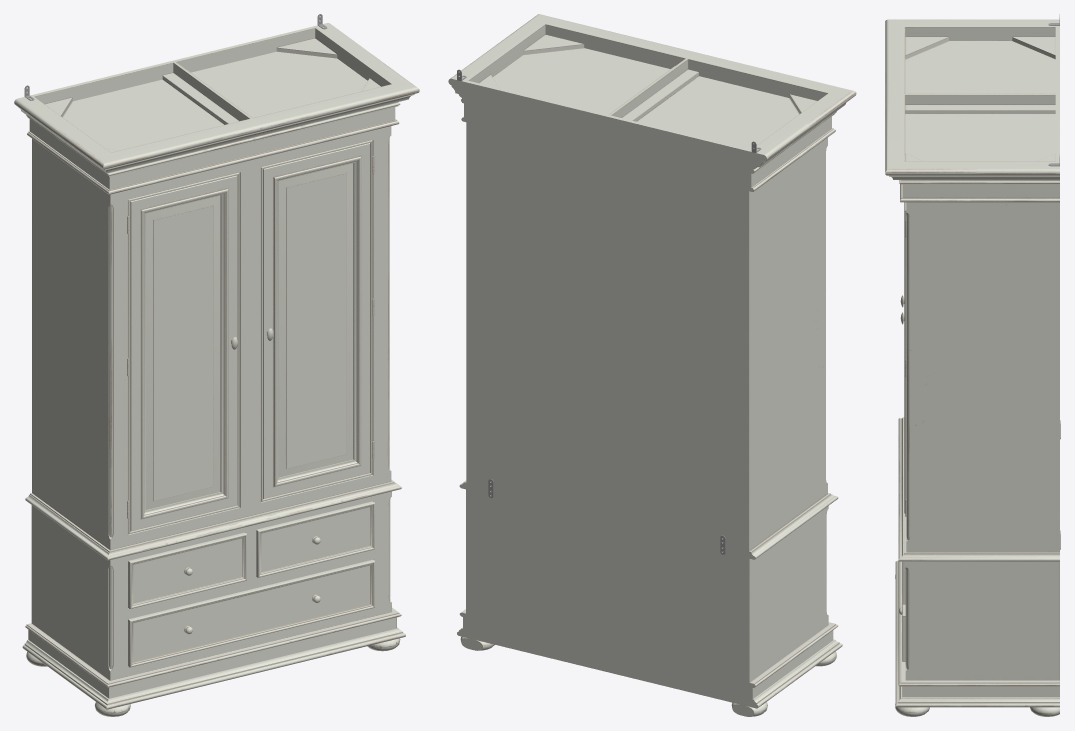
File: example131.glb
3 renders of one model, left to right at view 1: azimuth 30°, elevation 25°; view 2: azimuth 150°, elevation 25°; view 3: azimuth 270°, elevation 25°, orthographic. The views are drawn at different scales.
Visible parts, largest first — view 1: Buffer Layer (×2); view 2: Buffer Layer (×2); view 3: Buffer Layer (×2).
Boxes of the visible parts, <box> form: Buffer Layer (×2): <box>14,23,419,716</box>; Buffer Layer (×2): <box>448,14,856,716</box>; Buffer Layer (×2): <box>885,19,1059,716</box>.
Bounding box in the file's own units: 1.82 × 3.15 × 0.8897.
Materials: 2 (1 with a texture image).
